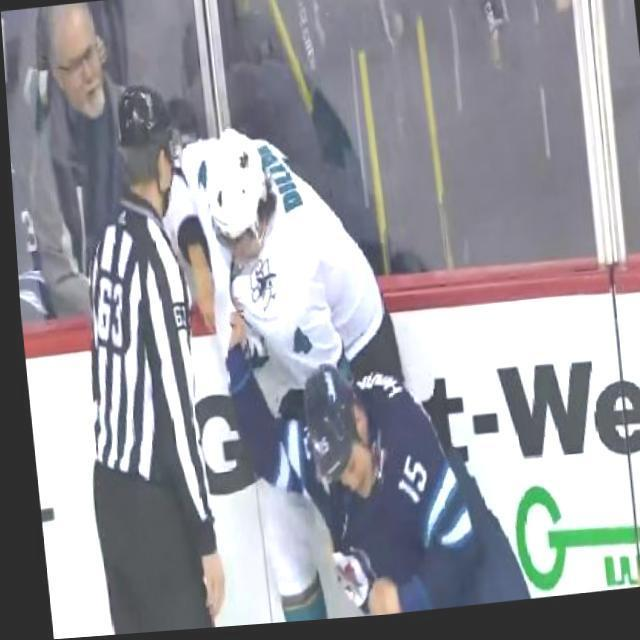fight: (149, 106, 513, 632)
